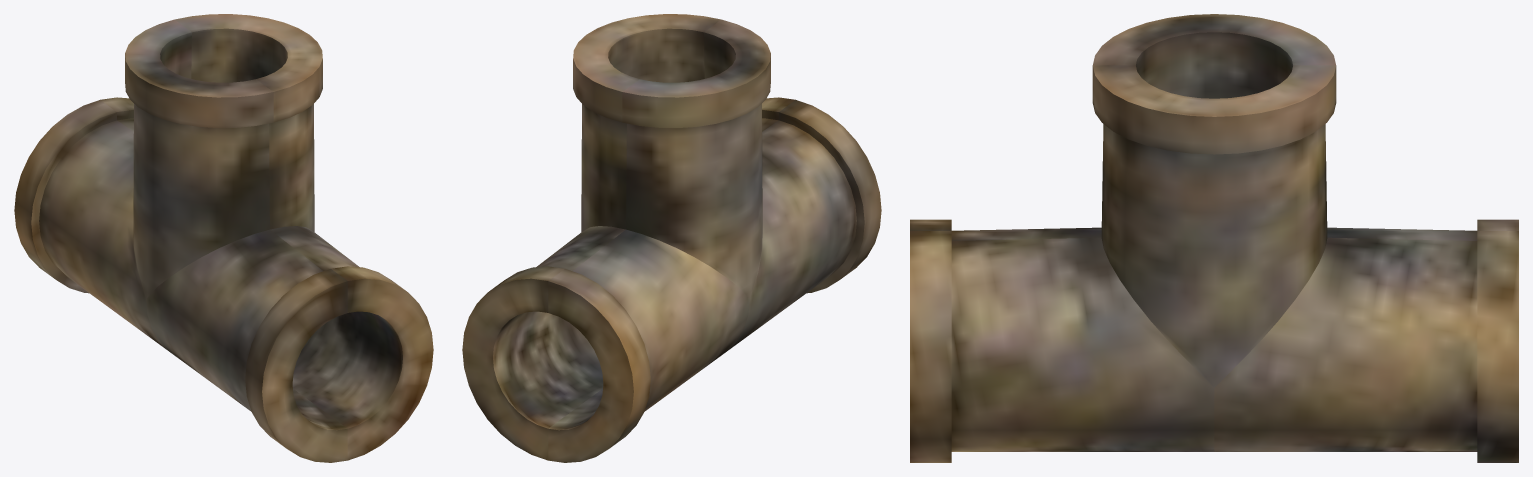
The model's file is pipe-offset.glb.
3 views of the same model, side by side, from view 1: azimuth 30°, elevation 25°; view 2: azimuth 150°, elevation 25°; view 3: azimuth 270°, elevation 25° (orthographic). The views are drawn at different scales.
Visible parts, largest first — view 1: pipe-offset; view 2: pipe-offset; view 3: pipe-offset.
Boxes of the visible parts, x1=… form: pipe-offset: x1=14, y1=14, x2=433, y2=462; pipe-offset: x1=462, y1=14, x2=881, y2=462; pipe-offset: x1=910, y1=14, x2=1518, y2=462.
Bounding box in the file's own units: 0.2811 × 0.492 × 0.7028.
1 material, 1 textured.
